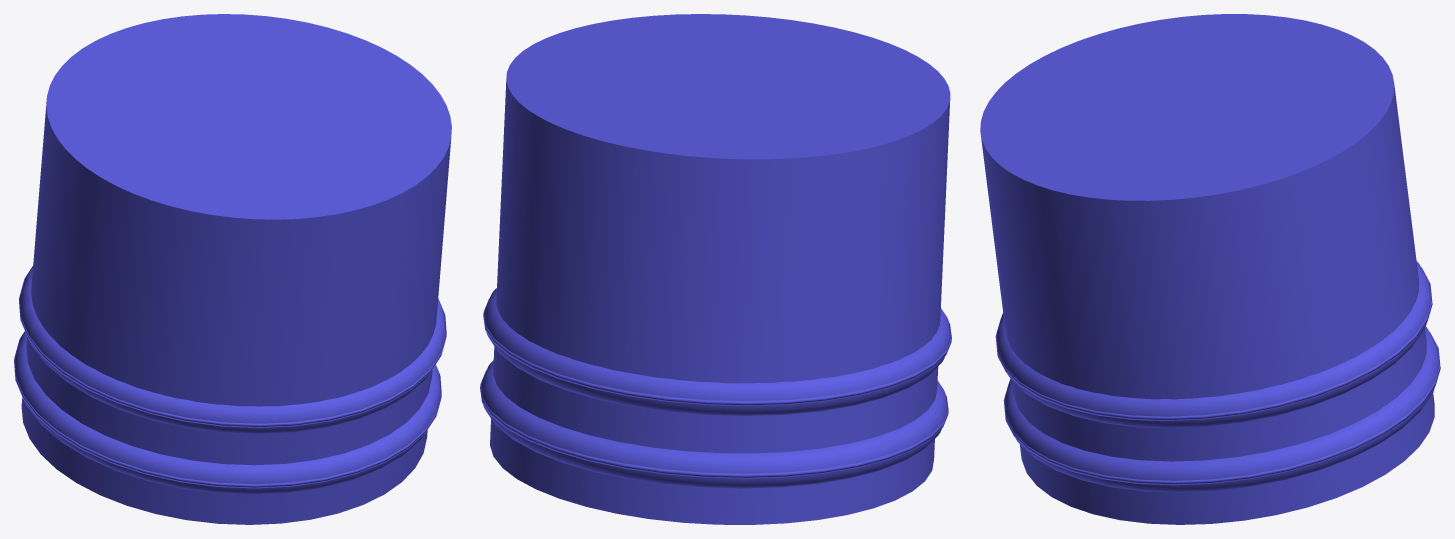
Rendered from bombilla248.obj.
The picture shows the model from 3 angles, left to right: view 1: azimuth 30°, elevation 25°; view 2: azimuth 150°, elevation 25°; view 3: azimuth 270°, elevation 25°; orthographic projection. The views are drawn at different scales.
Visible parts, largest first — view 1: Cylinder001, Cylinder004, Cylinder002, Cylinder003, Cylinder006; view 2: Cylinder001, Cylinder004, Cylinder003, Cylinder006, Cylinder002; view 3: Cylinder001, Cylinder004, Cylinder003, Cylinder002, Cylinder006.
Boxes of the visible parts, x1,y1,x2,y2 form: Cylinder001: (31,14,451,406); Cylinder004: (14,331,441,494); Cylinder002: (19,265,446,433); Cylinder003: (26,337,432,465); Cylinder006: (21,397,427,524); Cylinder001: (496,14,950,383); Cylinder004: (480,360,948,488); Cylinder003: (493,346,938,453); Cylinder006: (490,419,934,524); Cylinder002: (483,288,951,416); Cylinder001: (980,14,1419,399); Cylinder004: (1003,326,1440,492); Cylinder003: (1011,328,1426,461); Cylinder002: (995,261,1432,428); Cylinder006: (1019,392,1434,524).
Bounding box in the file's own units: 72.35 × 66.95 × 75.62.
